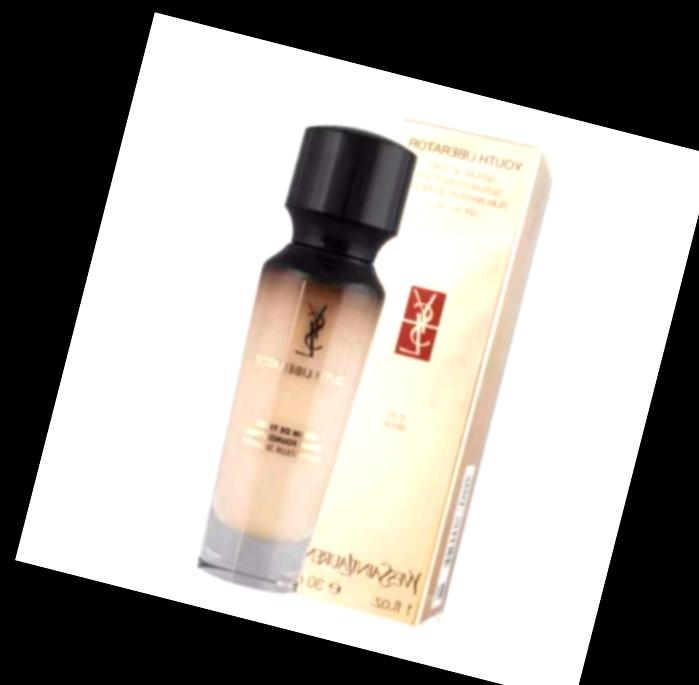cosmetic: (183, 122, 422, 601)
